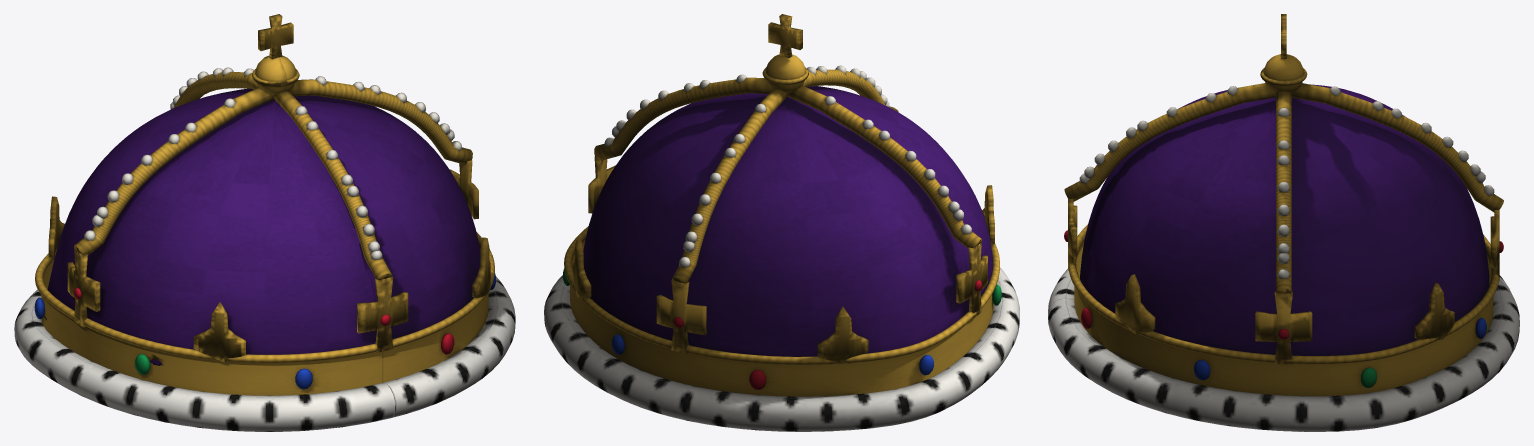
Rendered from crown_imperial_male_lo.glb.
3 views of the same model, side by side, from view 1: azimuth 30°, elevation 25°; view 2: azimuth 150°, elevation 25°; view 3: azimuth 270°, elevation 25° (orthographic). The views are drawn at different scales.
Visible parts, largest first — view 1: crown_imperial_lo; view 2: crown_imperial_lo; view 3: crown_imperial_lo.
Boxes of the visible parts, x1=… form: crown_imperial_lo: x1=14, y1=14, x2=515, y2=431; crown_imperial_lo: x1=544, y1=14, x2=1019, y2=431; crown_imperial_lo: x1=1048, y1=14, x2=1519, y2=431.
Bounding box in the file's own units: 0.6517 × 0.4819 × 0.6343.
1 material, 1 textured.
